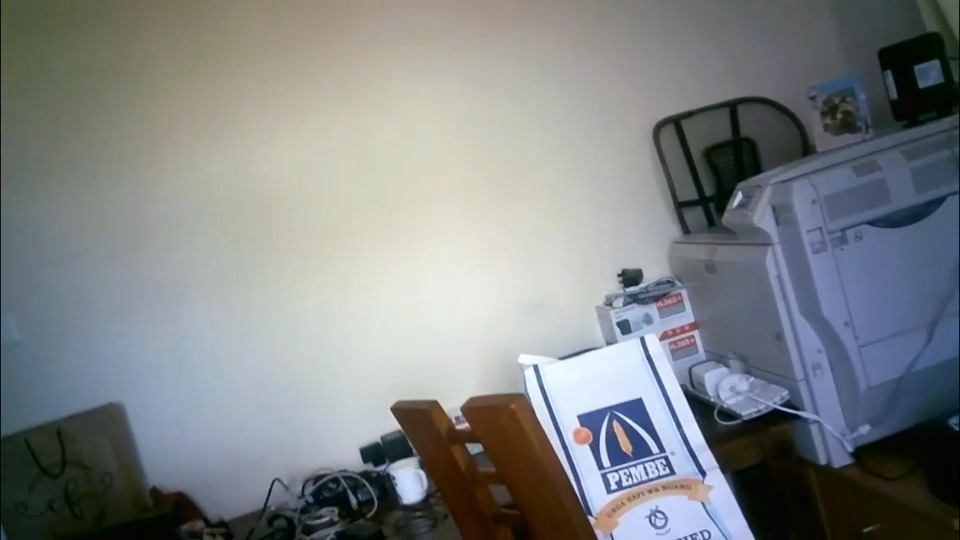wheat_flour_blue_label: (530, 337, 760, 540)
